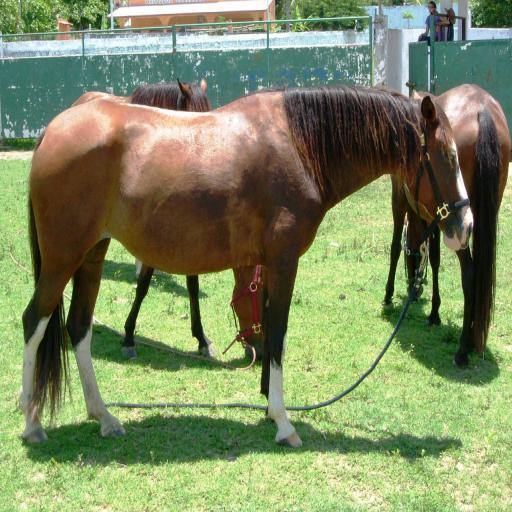horse: (20, 88, 475, 446), (72, 80, 212, 362), (383, 82, 512, 372)
